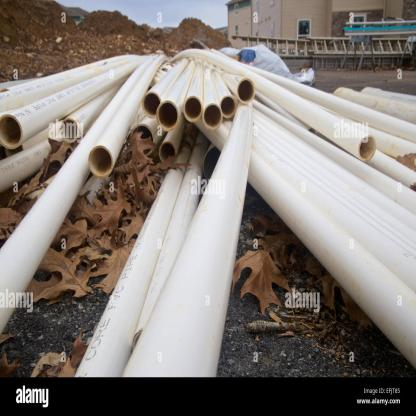PVC: (74, 105, 254, 377), (0, 55, 166, 336), (248, 95, 416, 369), (171, 48, 377, 163), (237, 59, 416, 171), (143, 62, 257, 131)
